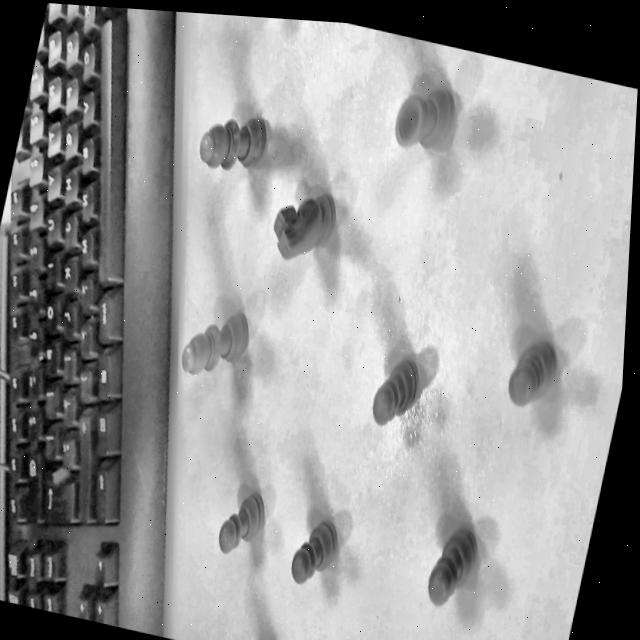white-bishop: (181, 312, 248, 374), (199, 117, 266, 169)
white-knight: (273, 194, 335, 258)
white-pawn: (372, 348, 437, 424), (427, 527, 477, 605), (508, 339, 557, 406), (290, 520, 337, 584), (218, 493, 264, 552)
white-rook: (395, 88, 454, 148)
